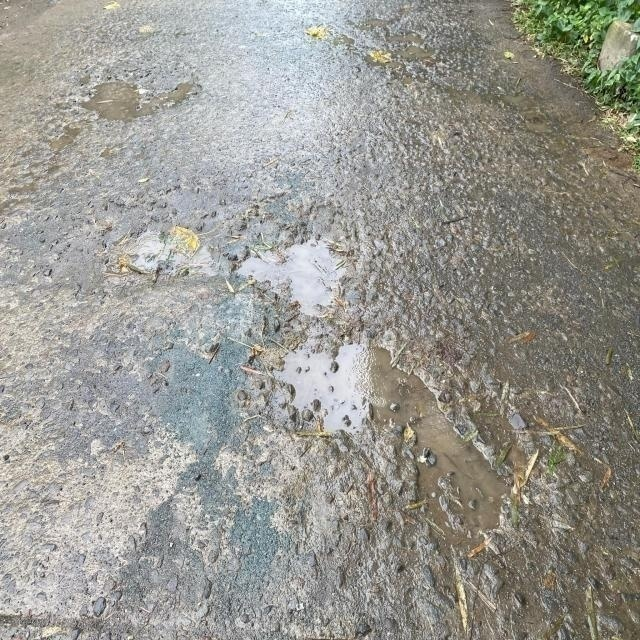pothole: (280, 327, 512, 562), (206, 212, 364, 328)
